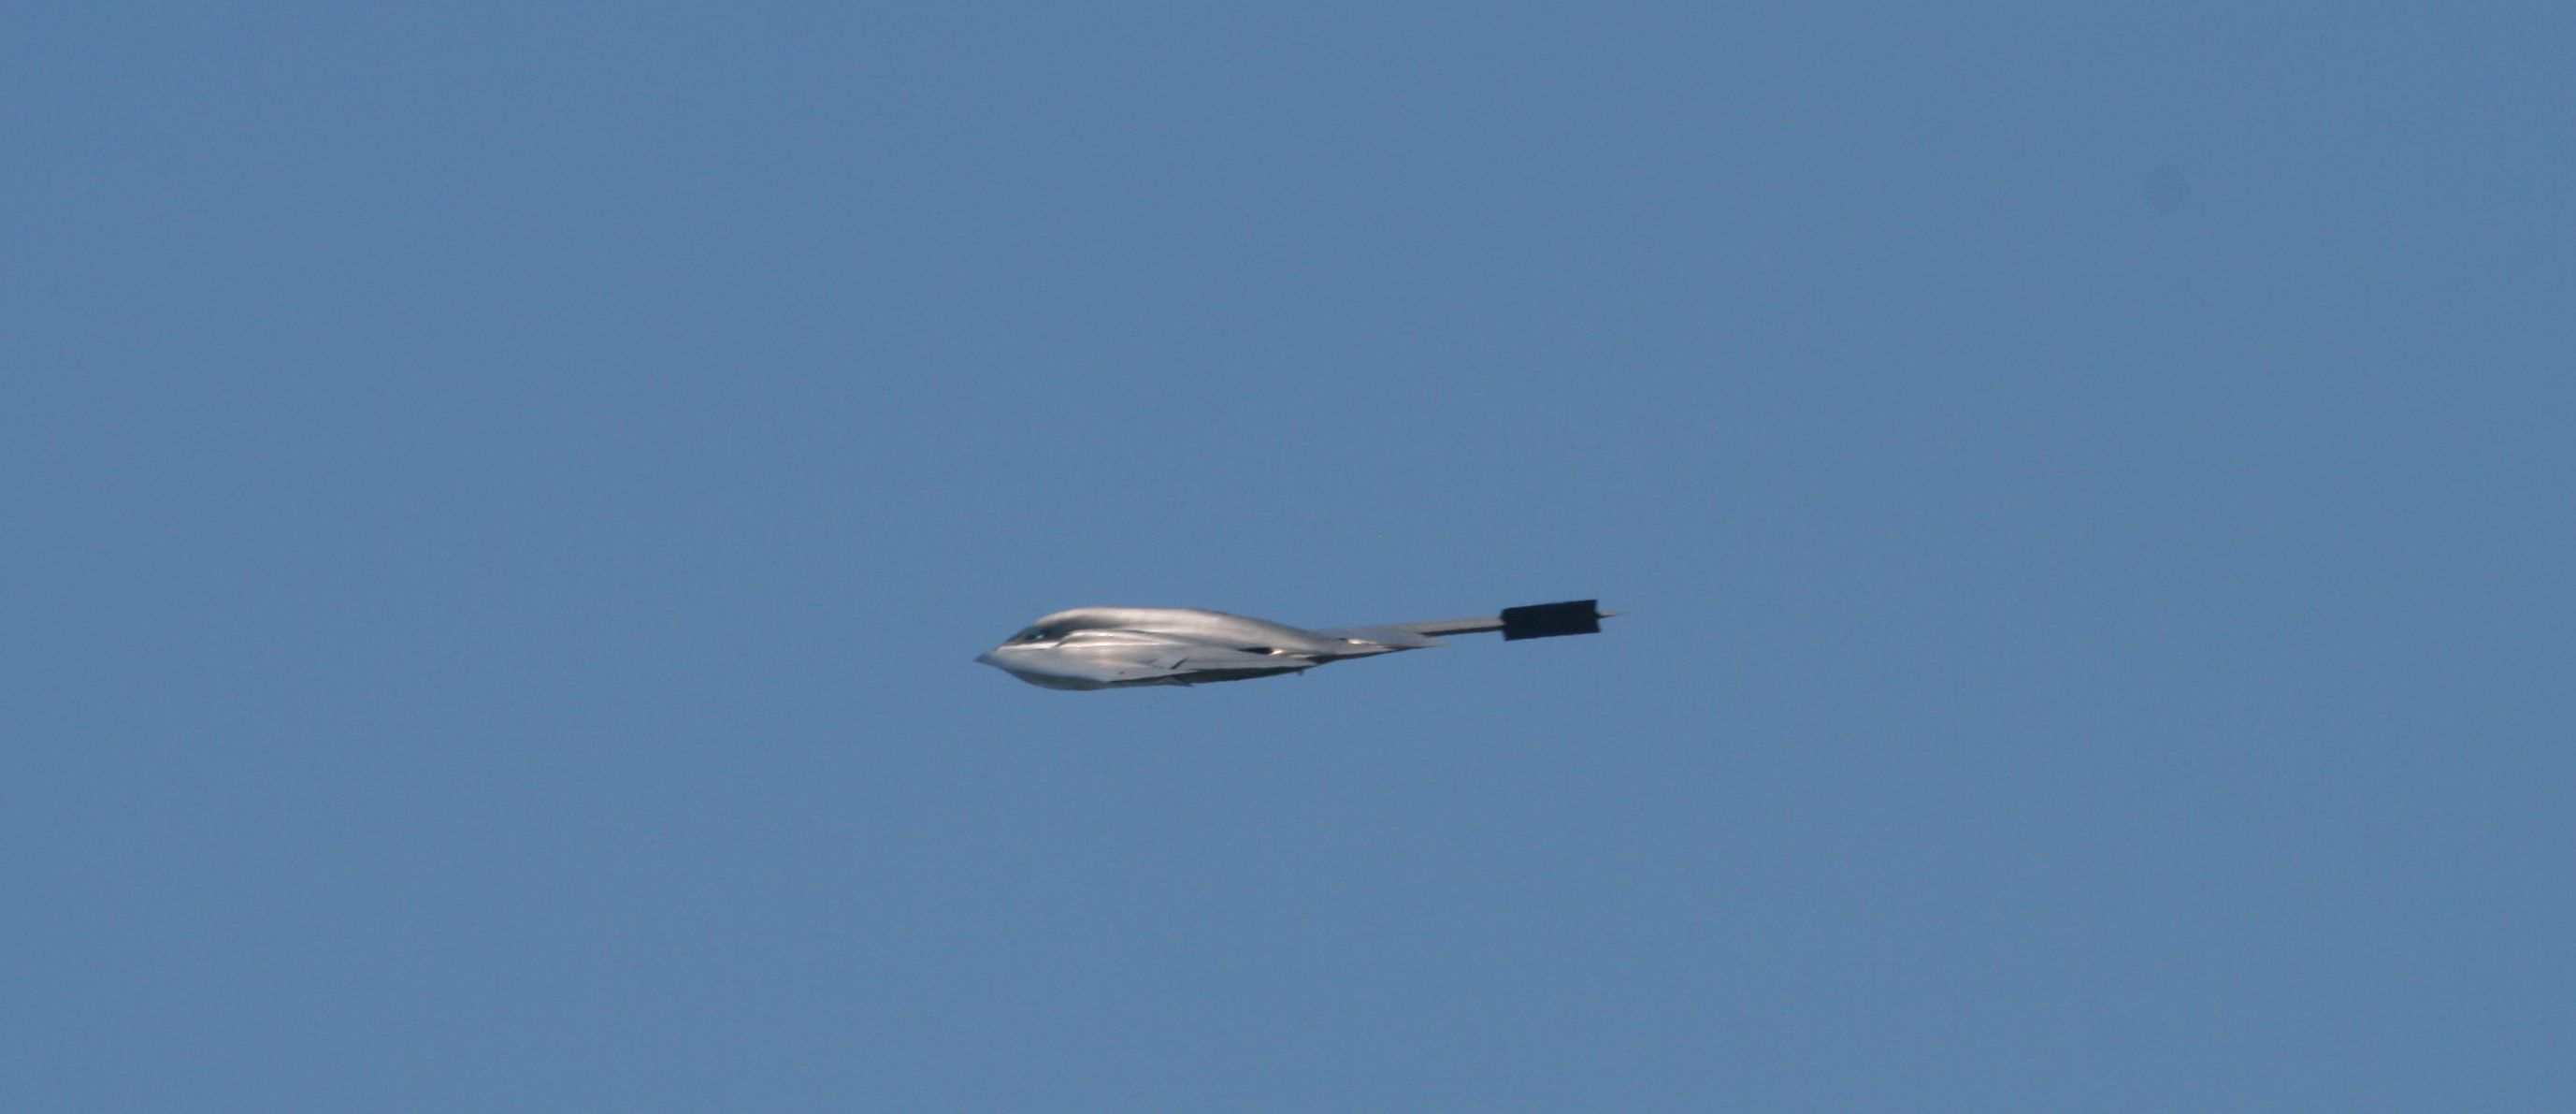B2: (973, 598, 1628, 692)
